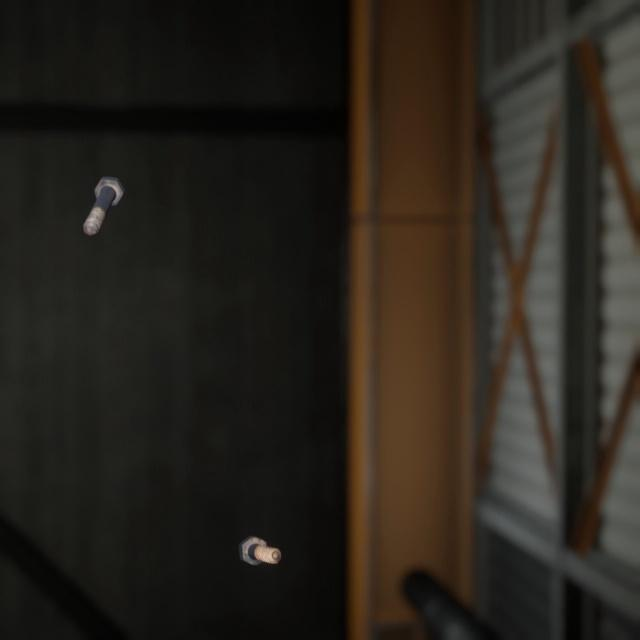bolt: (78, 157, 129, 225), (234, 508, 285, 547)
